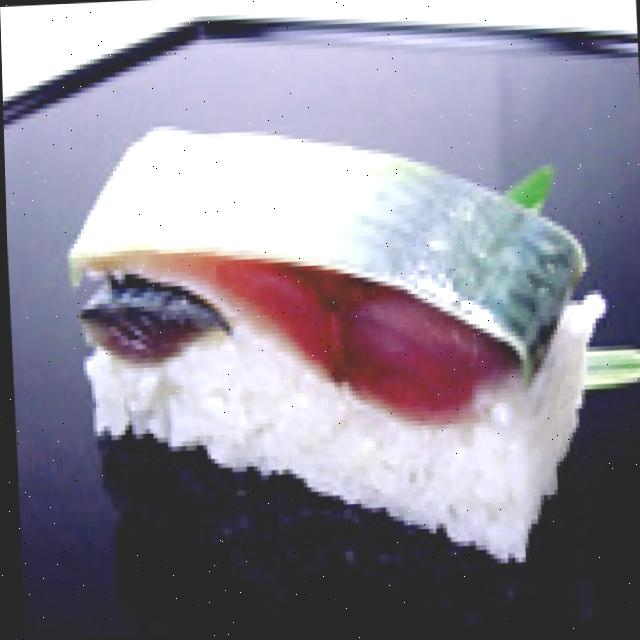寿司卷物: (3, 106, 640, 593)
